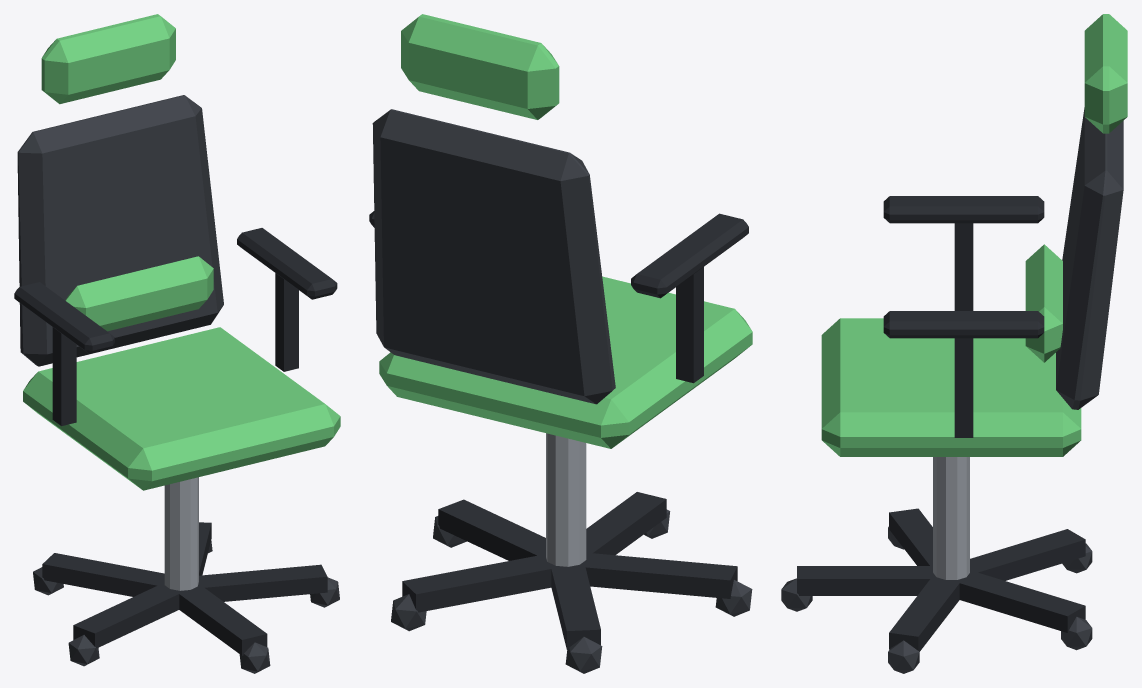
The model's file is chair_p2_3.glb.
3 renders of one model, left to right at view 1: azimuth 30°, elevation 25°; view 2: azimuth 150°, elevation 25°; view 3: azimuth 270°, elevation 25°, orthographic. The views are drawn at different scales.
Parts seen in each view (by area): view 1: chair_p2_3_mesh; view 2: chair_p2_3_mesh; view 3: chair_p2_3_mesh.
Part boxes in pixels (bbox=[...]): chair_p2_3_mesh: bbox=[14, 14, 340, 673]; chair_p2_3_mesh: bbox=[369, 14, 752, 673]; chair_p2_3_mesh: bbox=[781, 14, 1127, 673].
Bounding box in the file's own units: 0.5292 × 1.02 × 0.5605.
